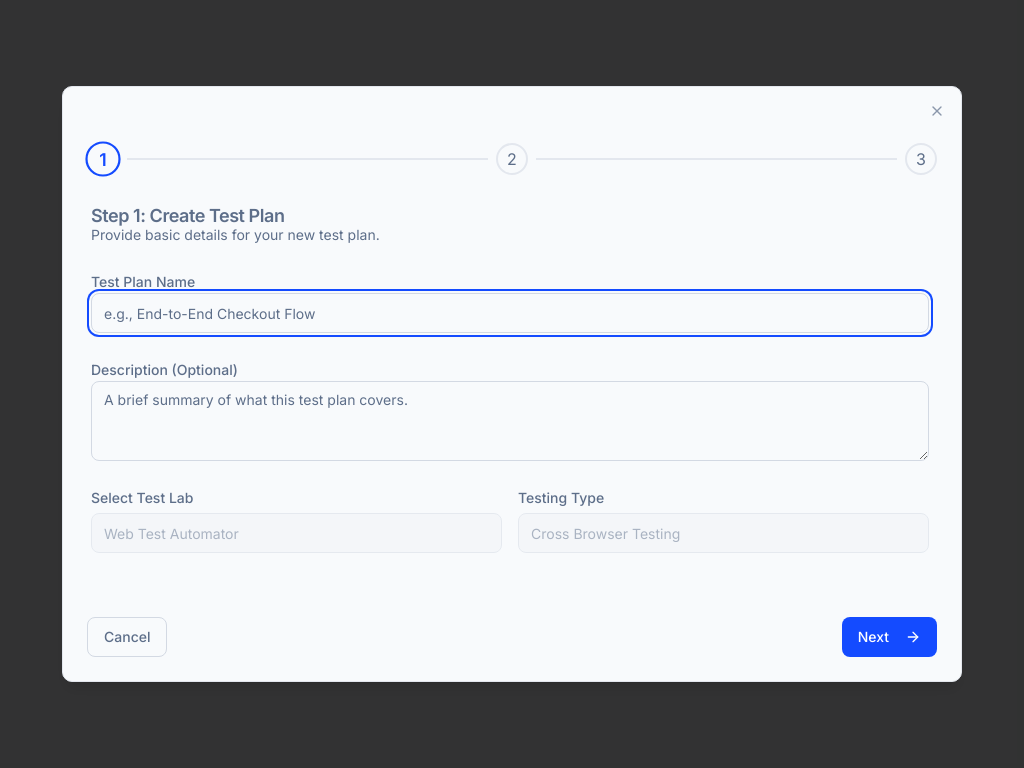
Test: CreateTestPlanWizard › step 1 › keeps what was typed when going back from step 2
Type "Nightly" into the field labelled "Test Plan Name" at (510, 313), box [91,293,929,333]
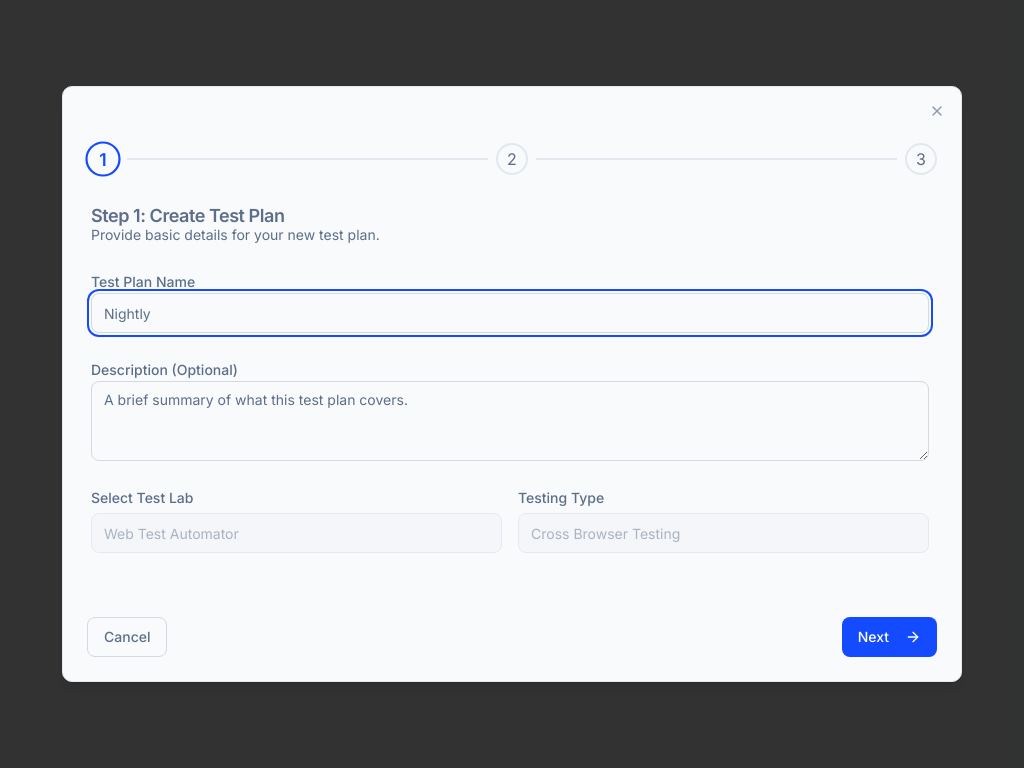
Type "Every night at two." into the text box labelled "Description (Optional)" at (510, 421), box [91,381,929,461]
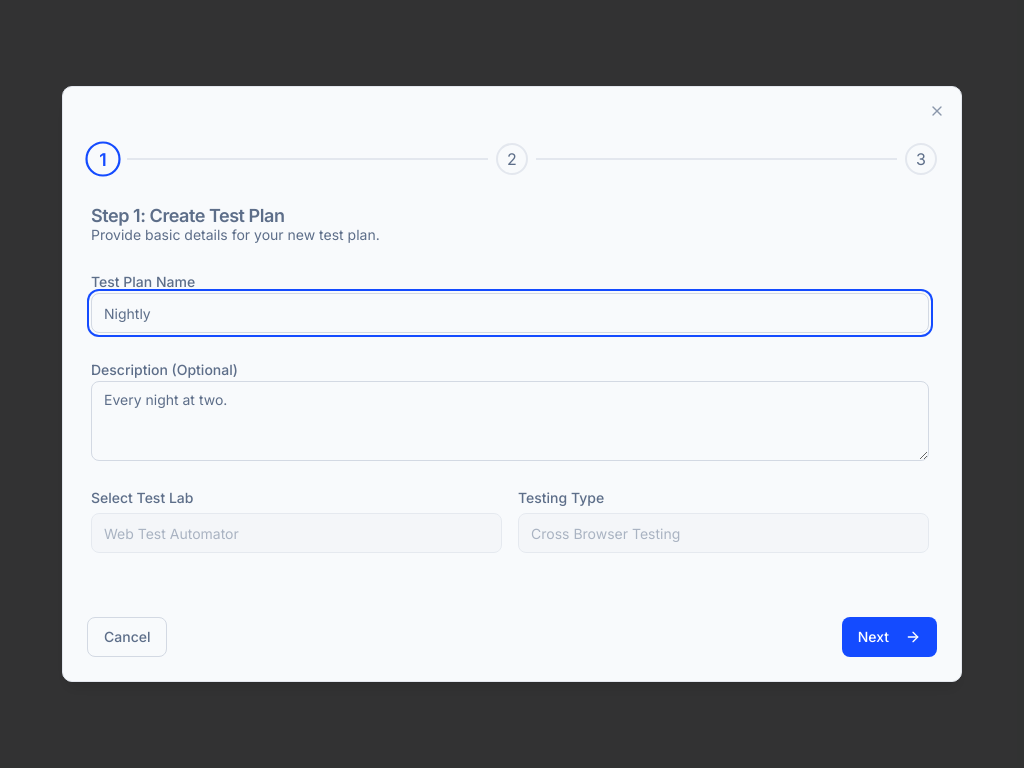
Click the button "Next" at (889, 637), box [842,617,937,657]
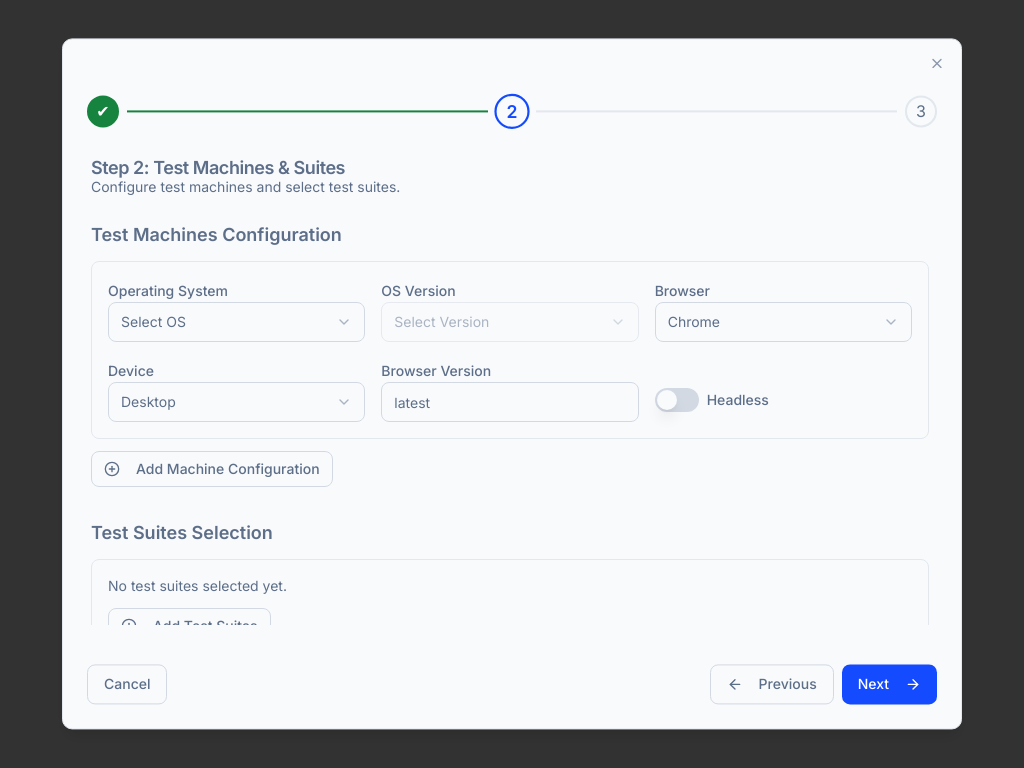
Click the button "Previous" at (772, 685), box [710,665,834,705]
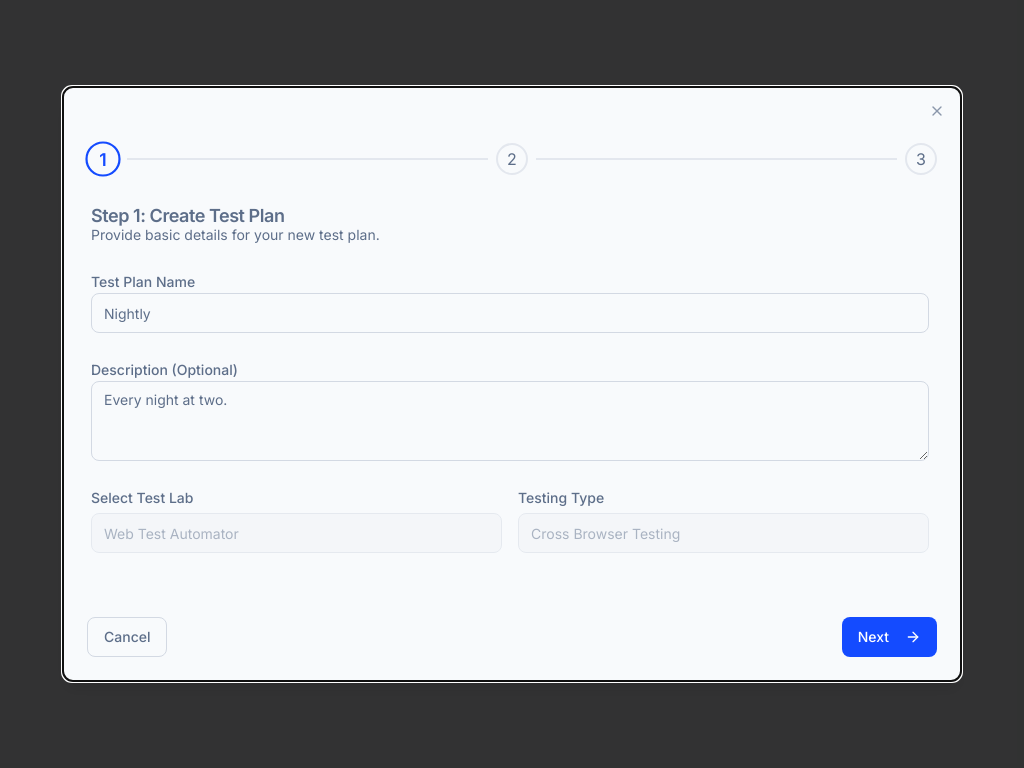
Expected: the heading "Step 1: Create Test Plan" is shown, [91,207,284,226]
Expected: the field labelled "Test Plan Name" holds "Nightly", [91,293,929,333]
Expected: the text box labelled "Description (Optional)" holds "Every night at two.", [91,381,929,461]
